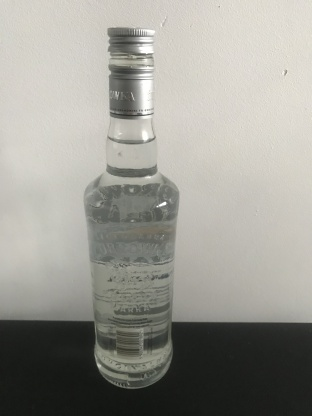nakretka: (106, 25, 156, 119)
